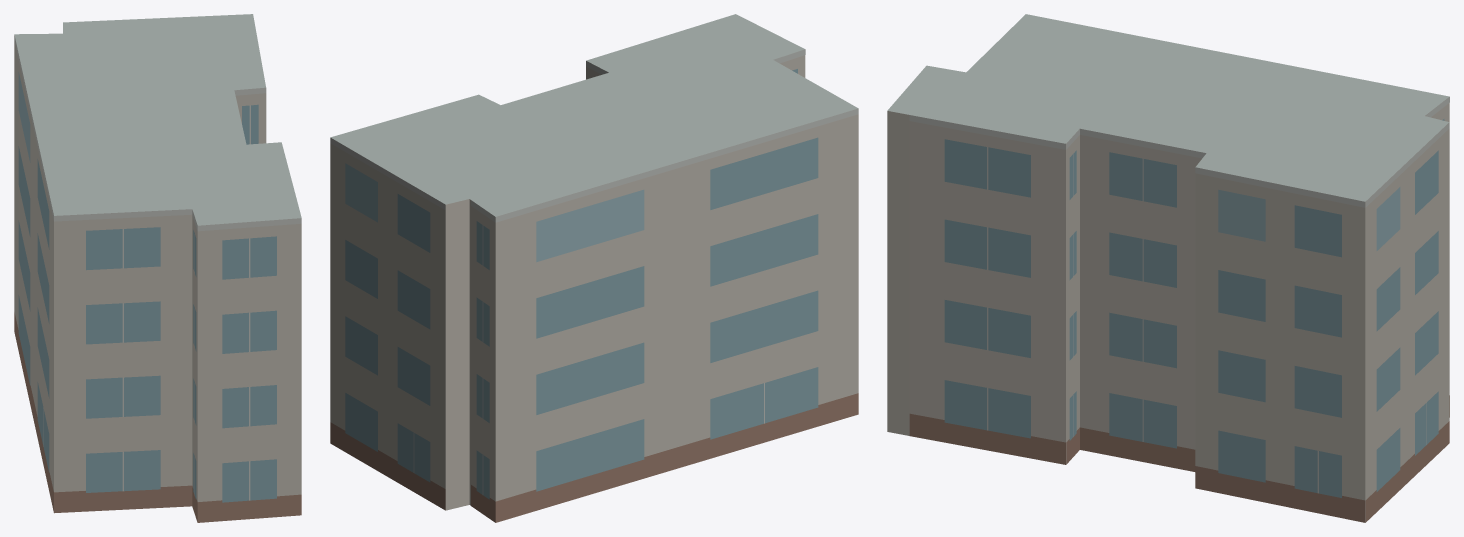
The model's file is survey-upis-32669321.glb.
The picture shows the model from 3 angles, left to right: view 1: azimuth 30°, elevation 25°; view 2: azimuth 150°, elevation 25°; view 3: azimuth 270°, elevation 25°; orthographic projection. The views are drawn at different scales.
Visible parts, largest first — view 1: survey-upis-32669321.tmp; view 2: survey-upis-32669321.tmp; view 3: survey-upis-32669321.tmp.
Boxes of the visible parts, <box> form: survey-upis-32669321.tmp: <box>14,14,301,522</box>; survey-upis-32669321.tmp: <box>330,14,858,522</box>; survey-upis-32669321.tmp: <box>887,14,1449,522</box>.
Size of the model in its own units: 16.19 by 12.9 by 20.49.
